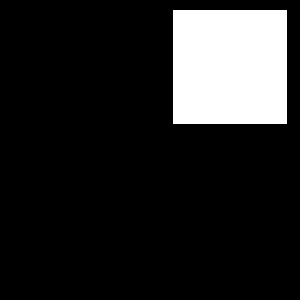circle: (173, 10, 287, 124)
